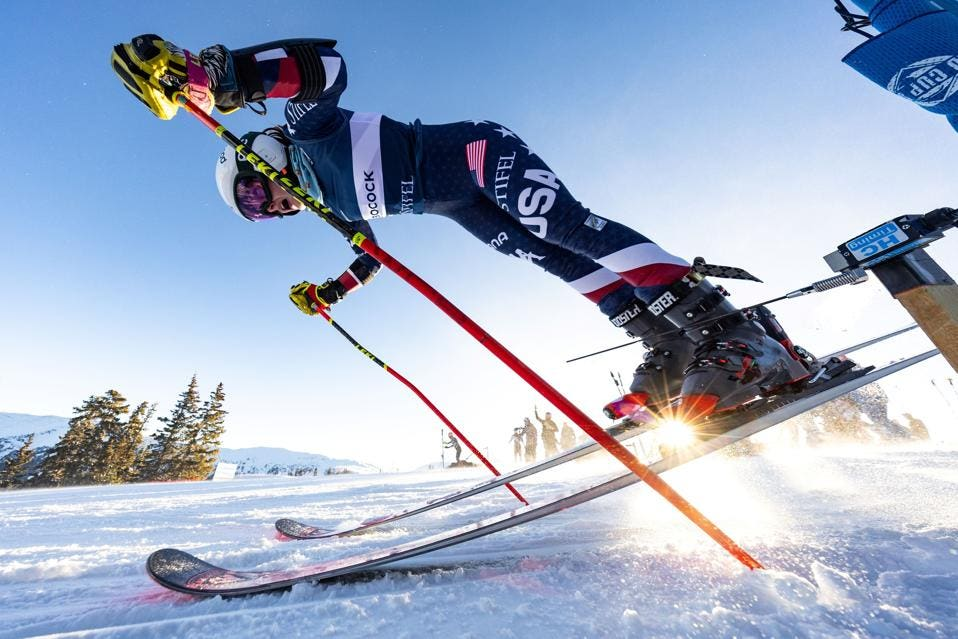skier: (110, 30, 944, 605)
